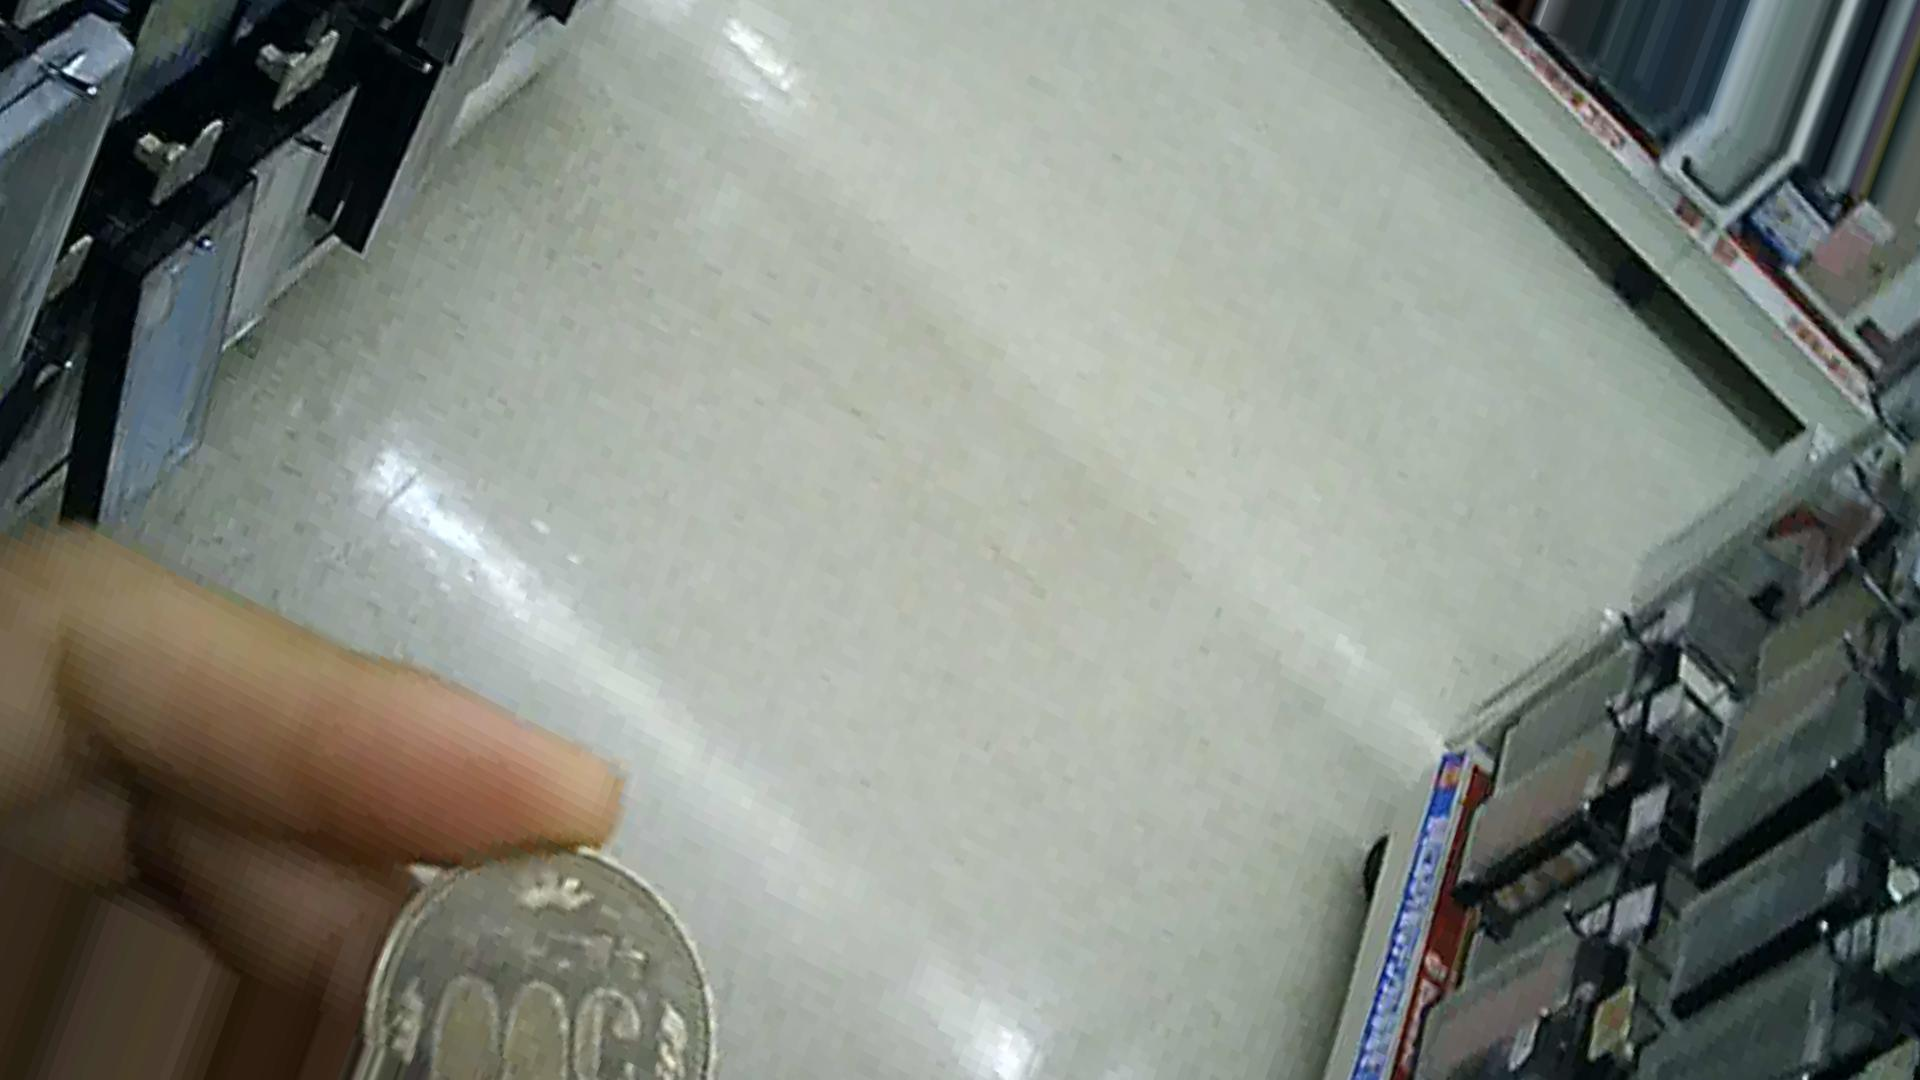500 Yen: (359, 839, 727, 1079)
